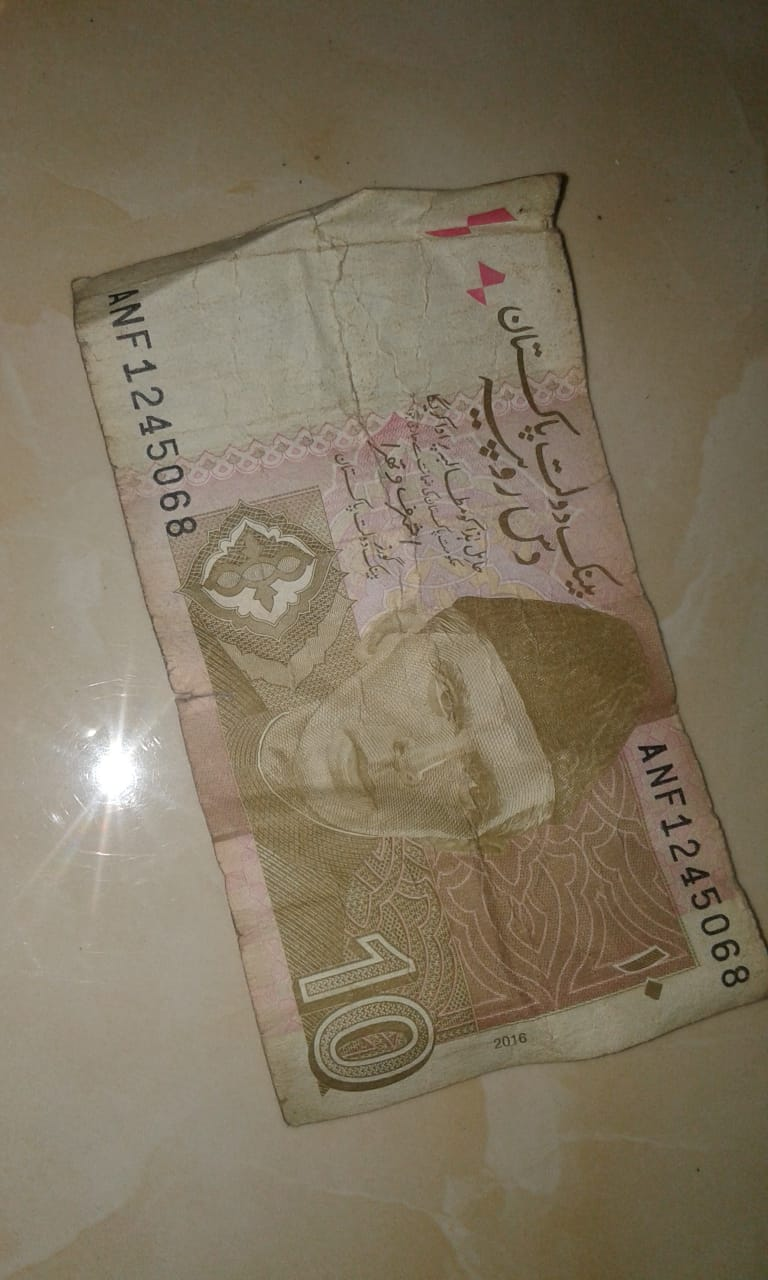10 rupee: (68, 161, 760, 1138)
